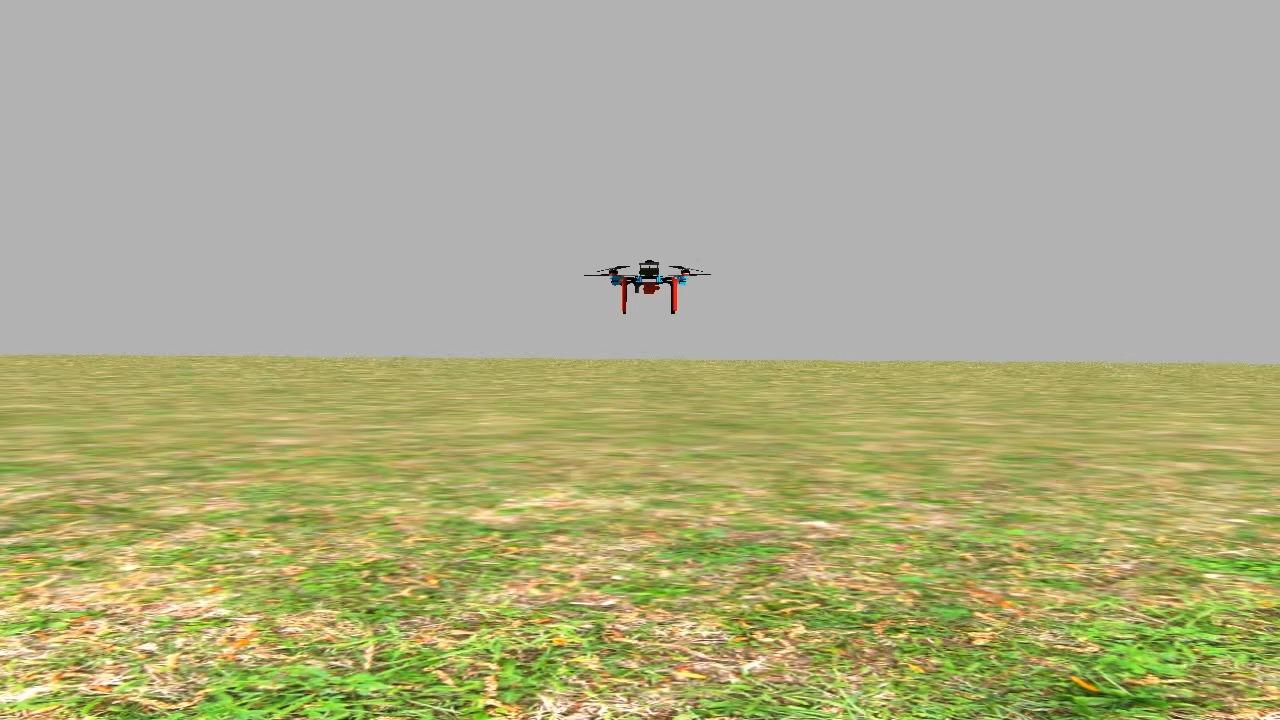UAV: (604, 251, 696, 320)
